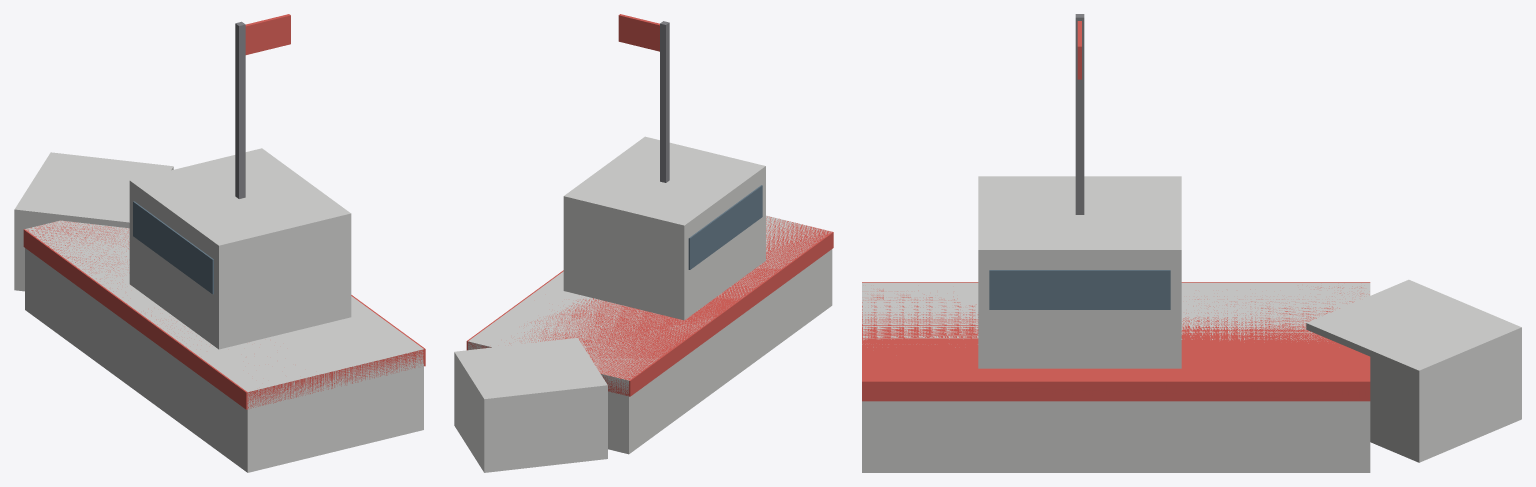
File: IZ_Barco.fbx
The picture shows the model from 3 angles, left to right: view 1: azimuth 30°, elevation 25°; view 2: azimuth 150°, elevation 25°; view 3: azimuth 270°, elevation 25°; orthographic projection. The views are drawn at different scales.
Parts seen in each view (by area): view 1: IZ_Barco; view 2: IZ_Barco; view 3: IZ_Barco.
Part boxes in pixels (x1,y1,x2,y2): IZ_Barco: (14, 14, 425, 472); IZ_Barco: (454, 14, 833, 472); IZ_Barco: (862, 14, 1521, 472).
Size of the model in its own units: 3.25 by 6.2 by 9.08.
